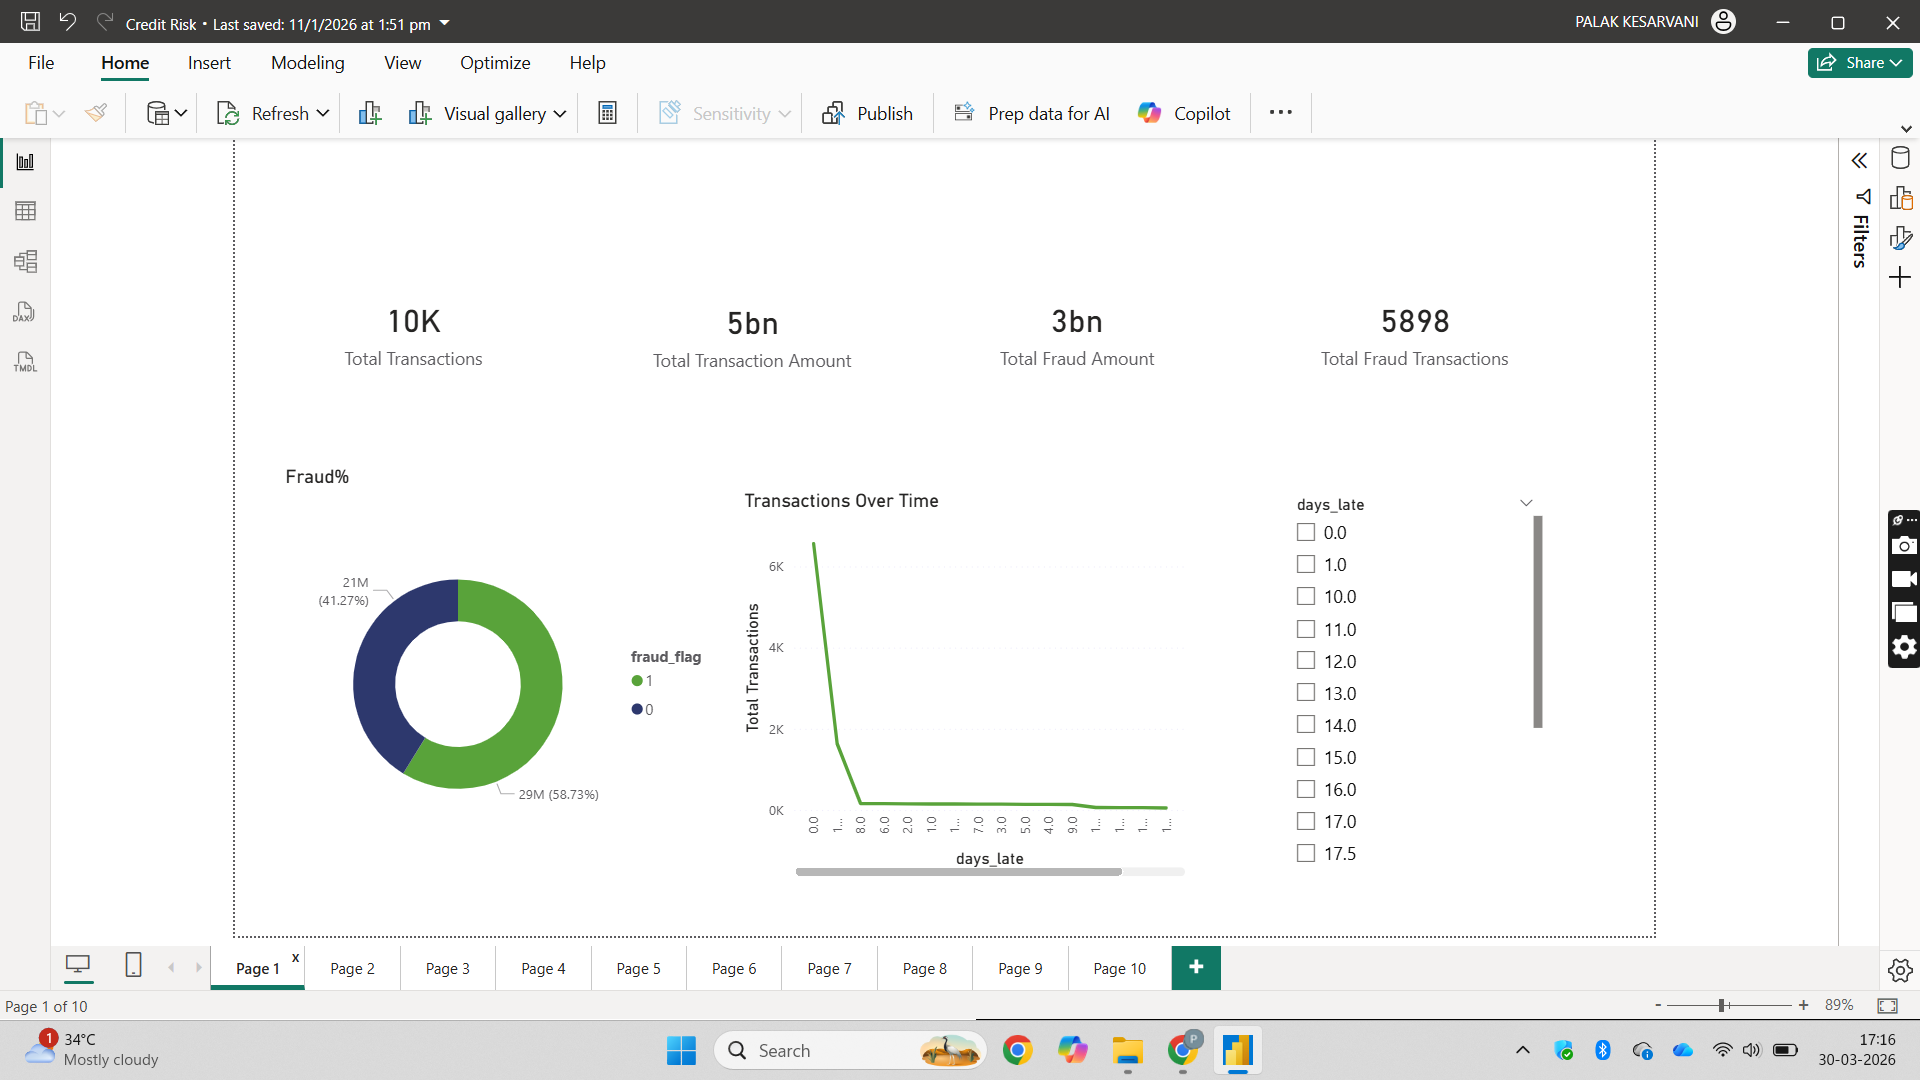

The dashboard page shown, as its layout file describes it:
{"tool":"powerbi","page":{"name":"Page 1","canvas":[1280,720],"ordinal":0},"visuals":[{"type":"card","fields":{"Values":["final_fraud_cleaned.Total Transaction Amount"]},"box":[347,35.6,238.9,280.2],"z":0},{"type":"card","fields":{"Values":["final_fraud_cleaned.Total Fraud Amount"]},"box":[640,34.1,238.9,280.2],"z":1000},{"type":"card","fields":{"Values":["final_fraud_cleaned.Total Fraud Transactions"]},"box":[944.4,34.1,238.9,280.2],"z":2000},{"type":"card","fields":{"Values":["final_fraud_cleaned.Total Transactions"]},"box":[41.2,34.1,238.9,280.2],"z":3000},{"type":"donutChart","title":"Fraud%","fields":{"Category":["final_fraud_cleaned.fraud_flag"],"Y":["Sum(final_fraud_cleaned.customer_id)"]},"box":[40.9,295.4,402.2,375.5],"z":4000},{"type":"lineChart","title":"Transactions Over Time","fields":{"Category":["final_fraud_cleaned.days_late"],"Y":["final_fraud_cleaned.Total Transactions"]},"box":[453.8,316.8,407.6,354.2],"z":5000},{"type":"slicer","fields":{"Values":["final_fraud_cleaned.days_late"]},"box":[944,317,239,354],"z":6000}]}

Visuals, with their boxes on the page's 1280x720 design canvas (x1, y1, x2, y2). These are canvas units, not pixel positions in the 1920x1080 screenshot, which may show the page scaled, cropped or inside an application window:
card - final_fraud_cleaned.Total Transaction Amount: bbox(347, 36, 586, 316)
card - final_fraud_cleaned.Total Fraud Amount: bbox(640, 34, 879, 314)
card - final_fraud_cleaned.Total Fraud Transactions: bbox(944, 34, 1183, 314)
card - final_fraud_cleaned.Total Transactions: bbox(41, 34, 280, 314)
"Fraud%" donutChart: bbox(41, 295, 443, 671)
"Transactions Over Time" lineChart: bbox(454, 317, 861, 671)
slicer - final_fraud_cleaned.days_late: bbox(944, 317, 1183, 671)
